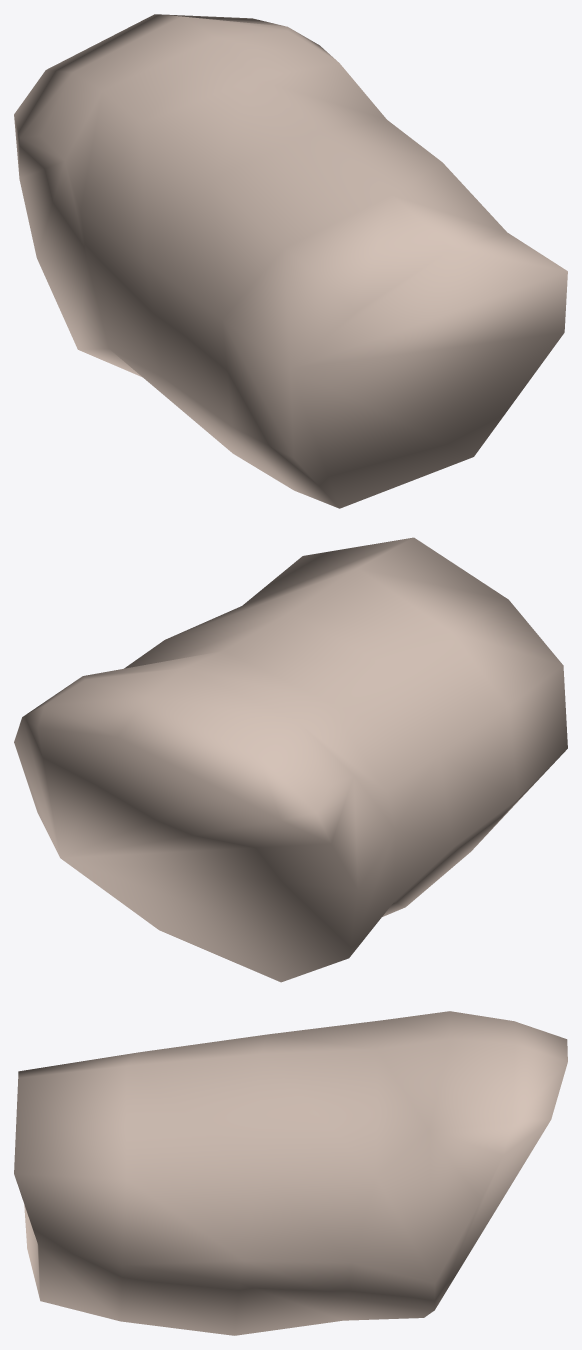
The model's file is RMiddle2ndPhalange.dae.
The picture shows the model from 3 angles, top to bottom: view 1: azimuth 30°, elevation 25°; view 2: azimuth 150°, elevation 25°; view 3: azimuth 270°, elevation 25°; orthographic projection. The views are drawn at different scales.
Parts seen in each view (by area): view 1: ShapeIndexedFaceSet; view 2: ShapeIndexedFaceSet; view 3: ShapeIndexedFaceSet.
Part boxes in pixels (x1,y1,x2,y2): ShapeIndexedFaceSet: (14, 14, 567, 508); ShapeIndexedFaceSet: (14, 537, 567, 982); ShapeIndexedFaceSet: (14, 1011, 567, 1335).
Bounding box in the file's own units: 0.0187 × 0.0293 × 0.0164.
